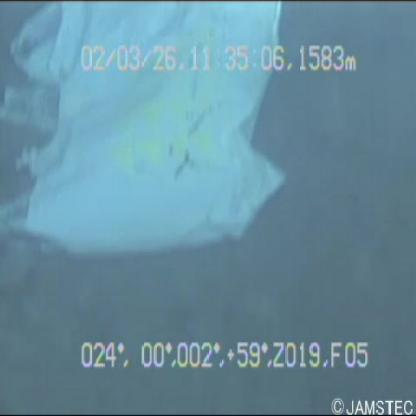Rác: (1, 1, 291, 270)
